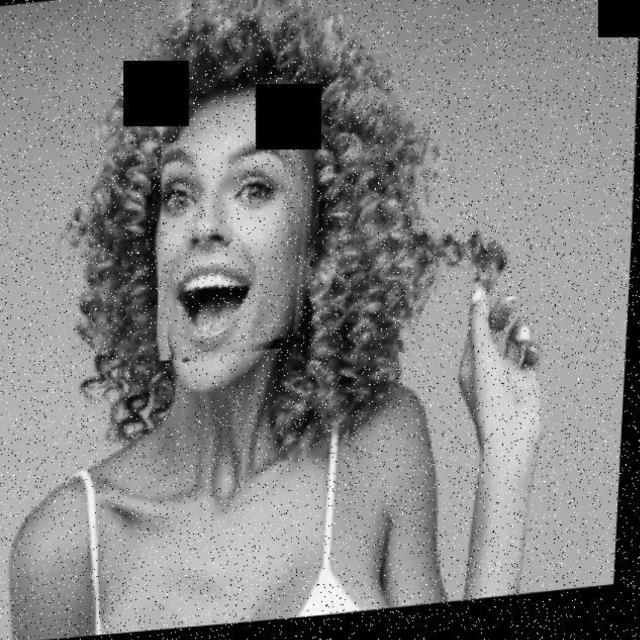Happy: (150, 142, 305, 392)
